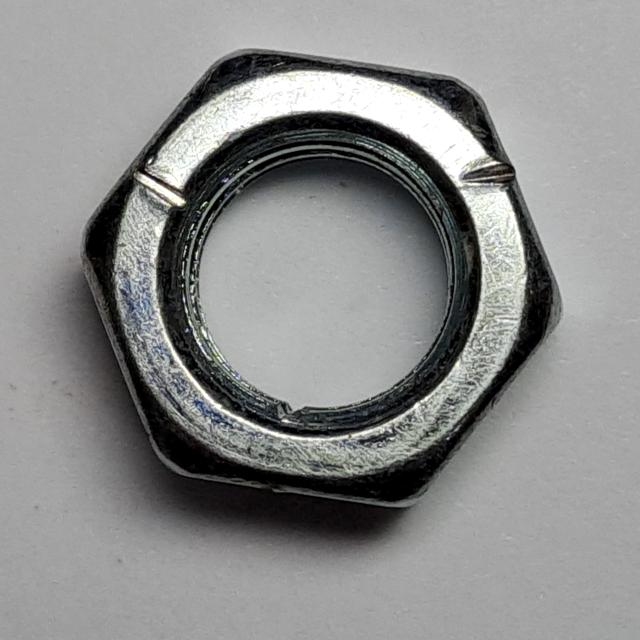Scratches: (60, 28, 574, 524)
